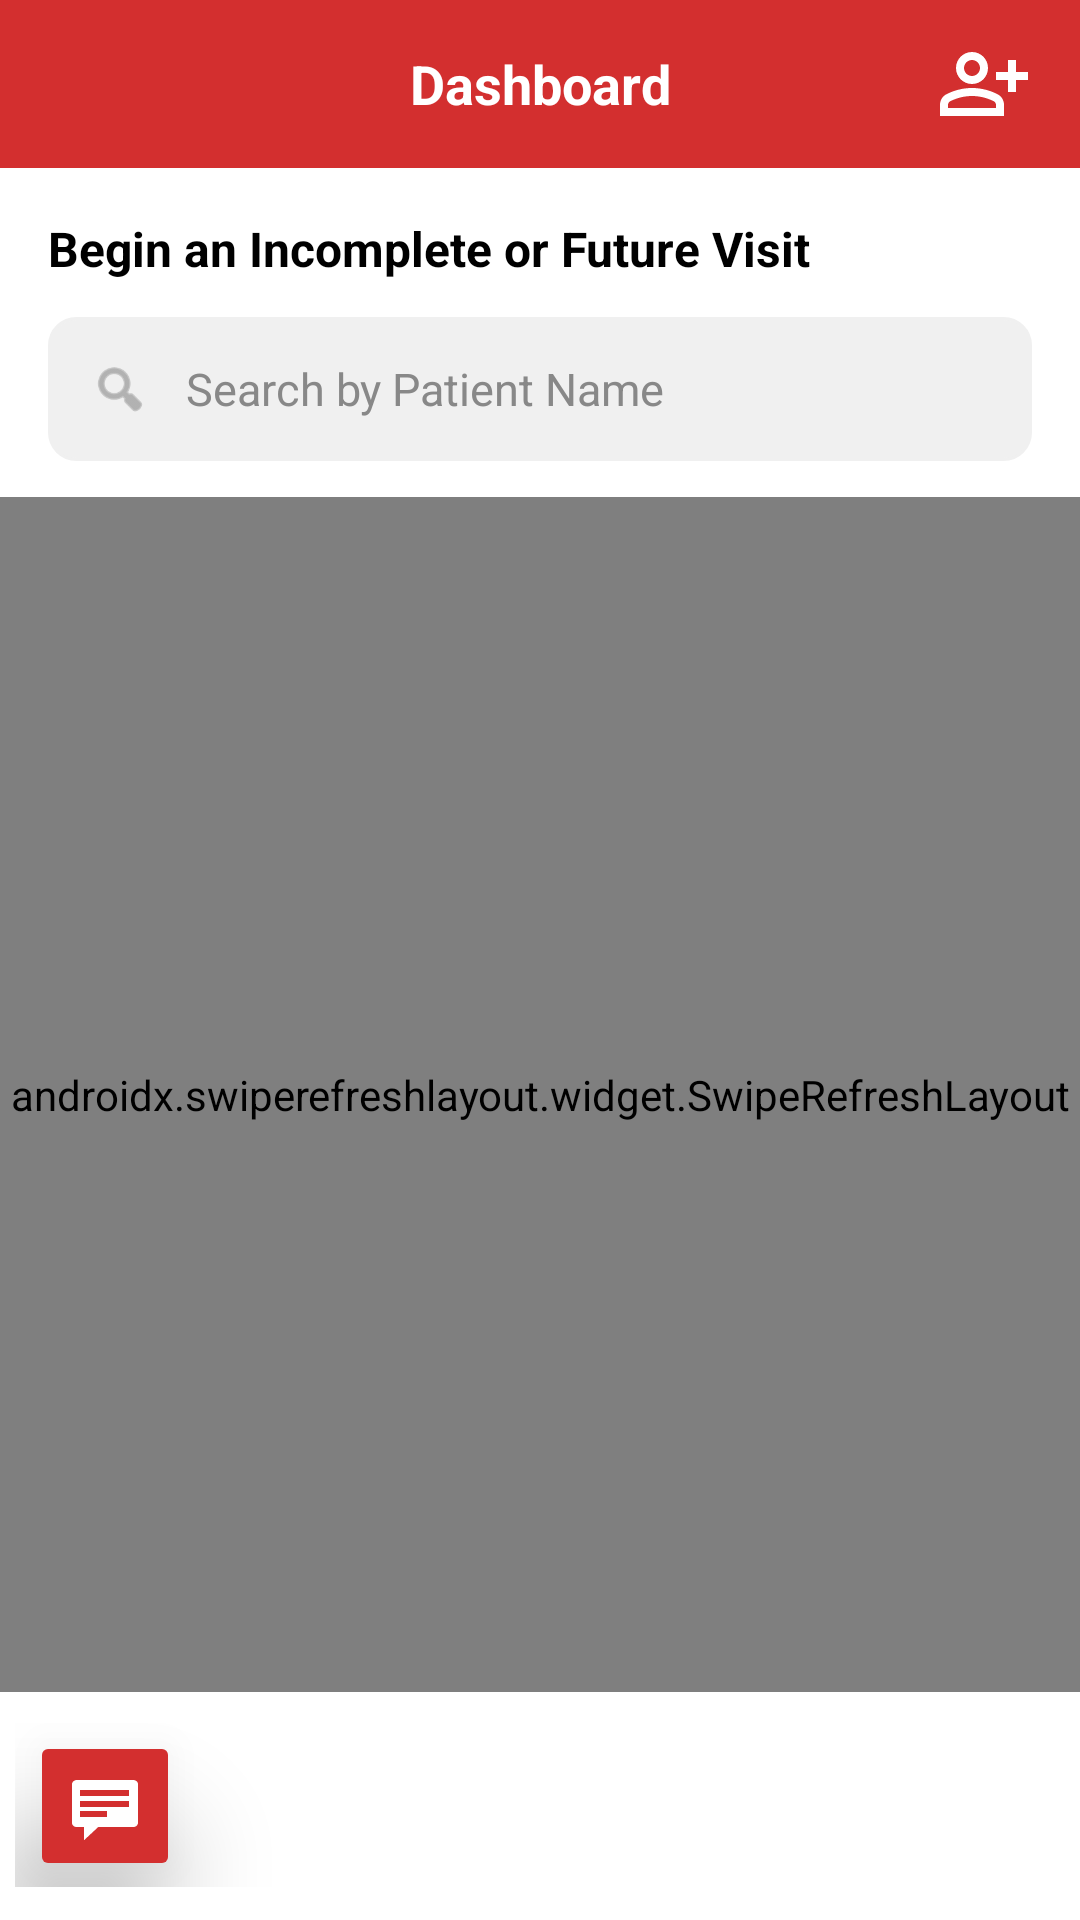

Icon bounding boxes for this 1080w x 1920h phone screenshot, format (left=x1, top=y1, right=x2, bottom=y2):
chat: (left=30, top=1749, right=168, bottom=1881)
person add: (left=940, top=52, right=1028, bottom=116)
